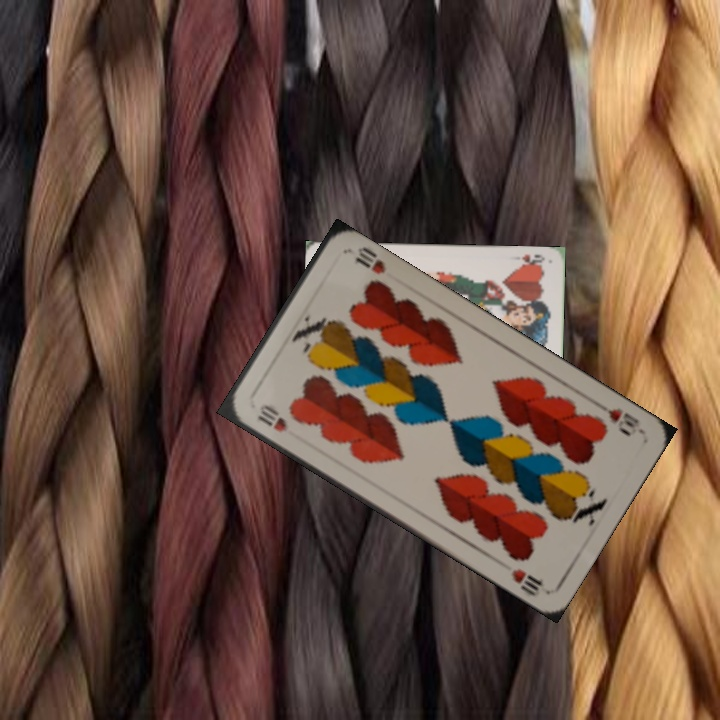H10: (603, 404, 642, 439), (253, 401, 290, 435)
HO: (514, 251, 547, 269)
